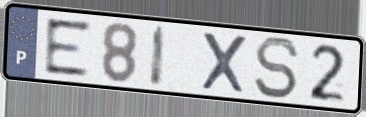2: (310, 43, 347, 106)
8: (100, 21, 140, 84)
E: (43, 16, 93, 78)
I: (147, 23, 168, 90)
S: (252, 34, 302, 101)
X: (199, 29, 249, 96)
